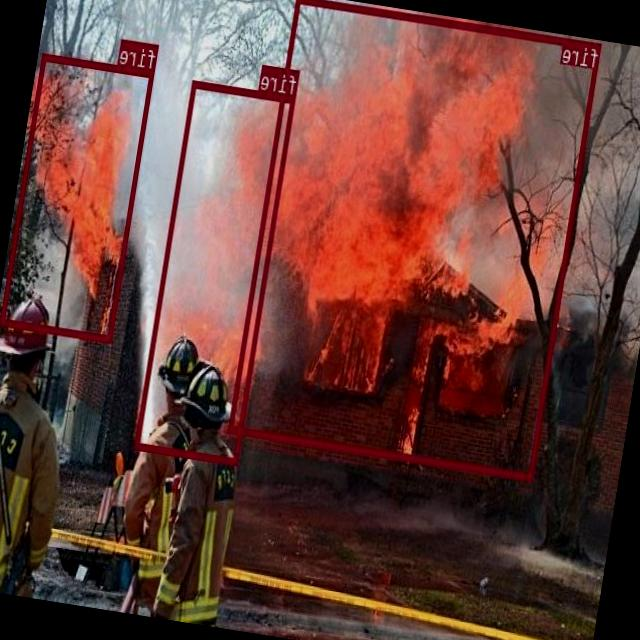fire: (229, 0, 602, 480), (136, 79, 297, 464), (0, 53, 156, 342)
